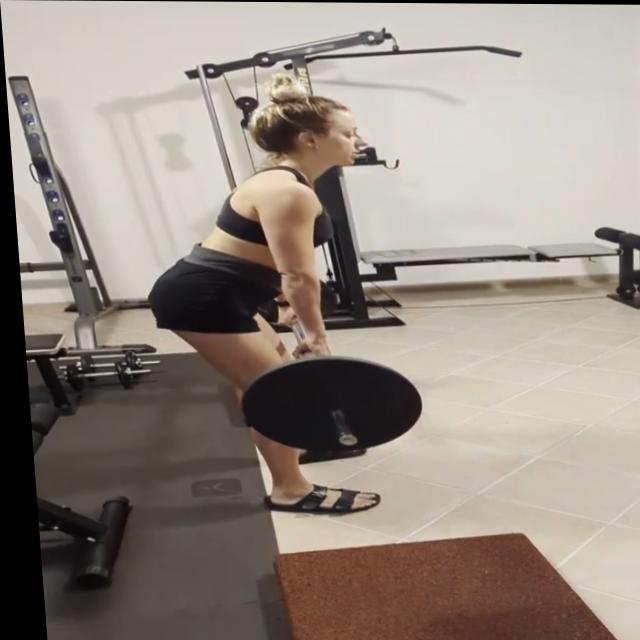barbell: (226, 351, 423, 457)
